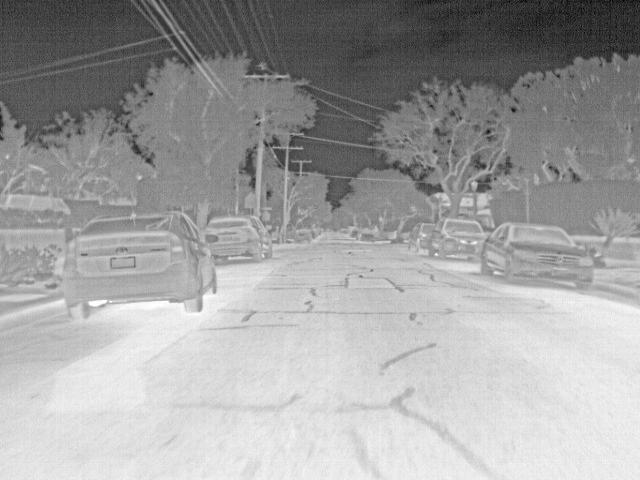car: (64, 210, 219, 321), (478, 222, 593, 291), (217, 214, 274, 263), (429, 216, 479, 260), (295, 227, 314, 242), (422, 222, 430, 250), (347, 225, 358, 238), (361, 230, 374, 241)
person: (406, 223, 423, 253)
